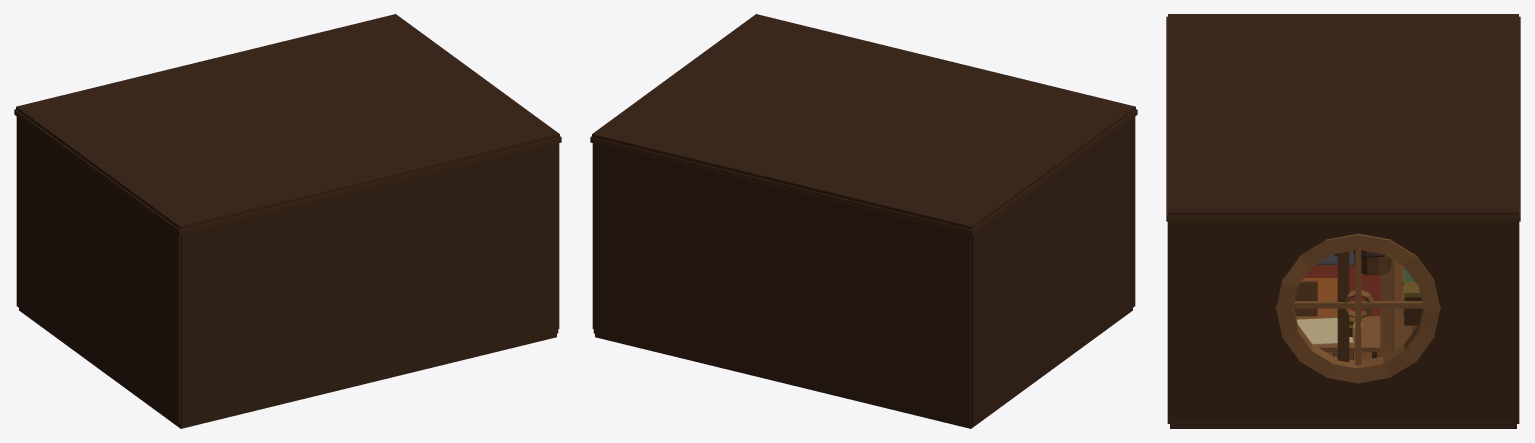
Rendered from cabin_b.glb.
3 renders of one model, left to right at view 1: azimuth 30°, elevation 25°; view 2: azimuth 150°, elevation 25°; view 3: azimuth 270°, elevation 25°, orthographic. The views are drawn at different scales.
Visible parts, largest first — view 1: cabin_b_end_wall_lining40_-1, cabin_b_ceiling_lining40, cabin_b_solid_wall_lining40, cabin_b_ceiling, cabin_b_floor_lining40; view 2: cabin_b_end_wall_lining40_1, cabin_b_ceiling_lining40, cabin_b_solid_wall_lining40, cabin_b_ceiling, cabin_b_floor_lining40; view 3: cabin_b_ceiling_lining40, cabin_b_window_wall_lining40, cabin_b_ceiling, cabin_b_floor_lining40, cabin_b_post_R1, cabin_b_chart_table_top, cabin_b_rug, cabin_b_floor_plank_10, cabin_b_porthole_bar_h, cabin_b_chart, cabin_b_floor_plank_11, cabin_b_porthole_bar_v (+23 smaller).
Boxes of the visible parts, bbox=[...] form: cabin_b_end_wall_lining40_-1: bbox=[181, 143, 558, 424]; cabin_b_ceiling_lining40: bbox=[16, 14, 559, 229]; cabin_b_solid_wall_lining40: bbox=[16, 117, 180, 424]; cabin_b_ceiling: bbox=[14, 109, 561, 235]; cabin_b_floor_lining40: bbox=[19, 308, 556, 428]; cabin_b_end_wall_lining40_1: bbox=[593, 143, 970, 424]; cabin_b_ceiling_lining40: bbox=[592, 14, 1135, 229]; cabin_b_solid_wall_lining40: bbox=[971, 117, 1135, 424]; cabin_b_ceiling: bbox=[590, 109, 1137, 235]; cabin_b_floor_lining40: bbox=[595, 308, 1132, 428]; cabin_b_ceiling_lining40: bbox=[1168, 14, 1518, 215]; cabin_b_window_wall_lining40: bbox=[1170, 221, 1516, 421]; cabin_b_ceiling: bbox=[1166, 16, 1520, 221]; cabin_b_floor_lining40: bbox=[1170, 260, 1516, 428]; cabin_b_post_R1: bbox=[1337, 251, 1349, 362]; cabin_b_chart_table_top: bbox=[1296, 316, 1380, 352]; cabin_b_rug: bbox=[1304, 265, 1380, 316]; cabin_b_floor_plank_10: bbox=[1377, 259, 1392, 357]; cabin_b_porthole_bar_h: bbox=[1293, 301, 1423, 308]; cabin_b_chart: bbox=[1297, 318, 1353, 344]; cabin_b_floor_plank_11: bbox=[1393, 261, 1412, 349]; cabin_b_porthole_bar_v: bbox=[1355, 250, 1361, 365].
Bounding box in the file's own units: 6.42 × 3.26 × 4.8.
